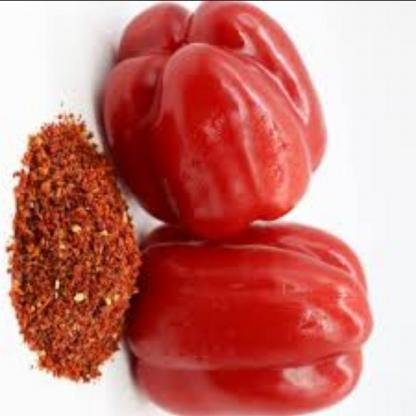bell pepper: (94, 0, 332, 242), (115, 214, 378, 415)
